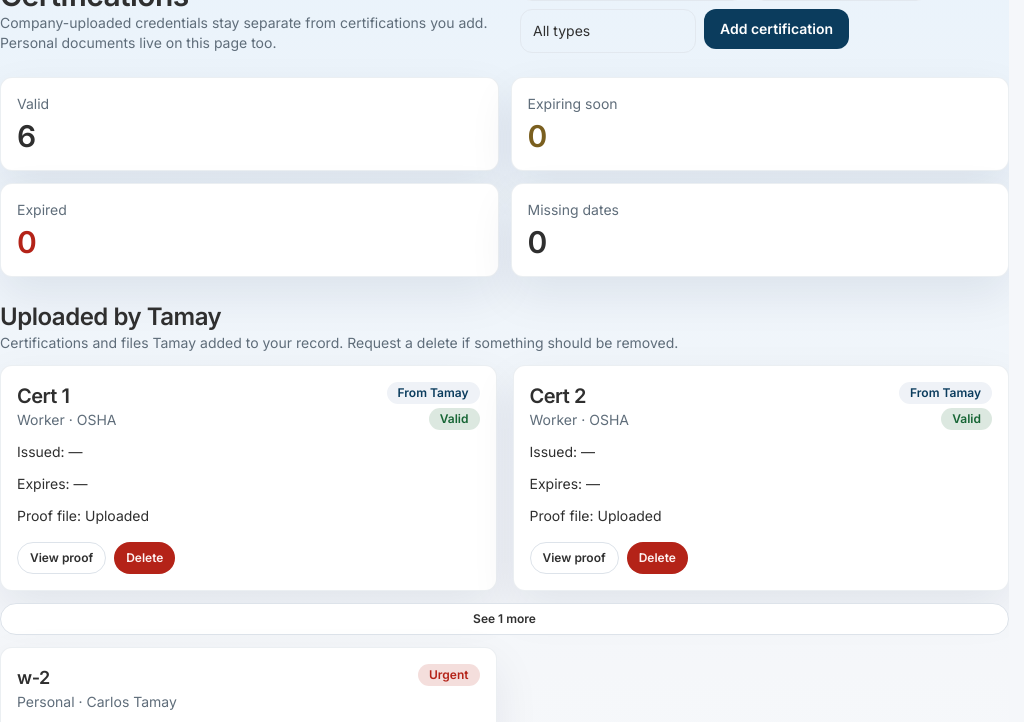
Test: Certifications list › limits the list to one certification type, and All types shows everything
Expected: the heading "w-2" is shown, [17,667,50,688]
Expected: the heading "Cert 1" is shown, [17,384,69,408]
Step 1. Select "CPR" in the dropdown named "Type" → (608, 31), box [520,9,696,53]
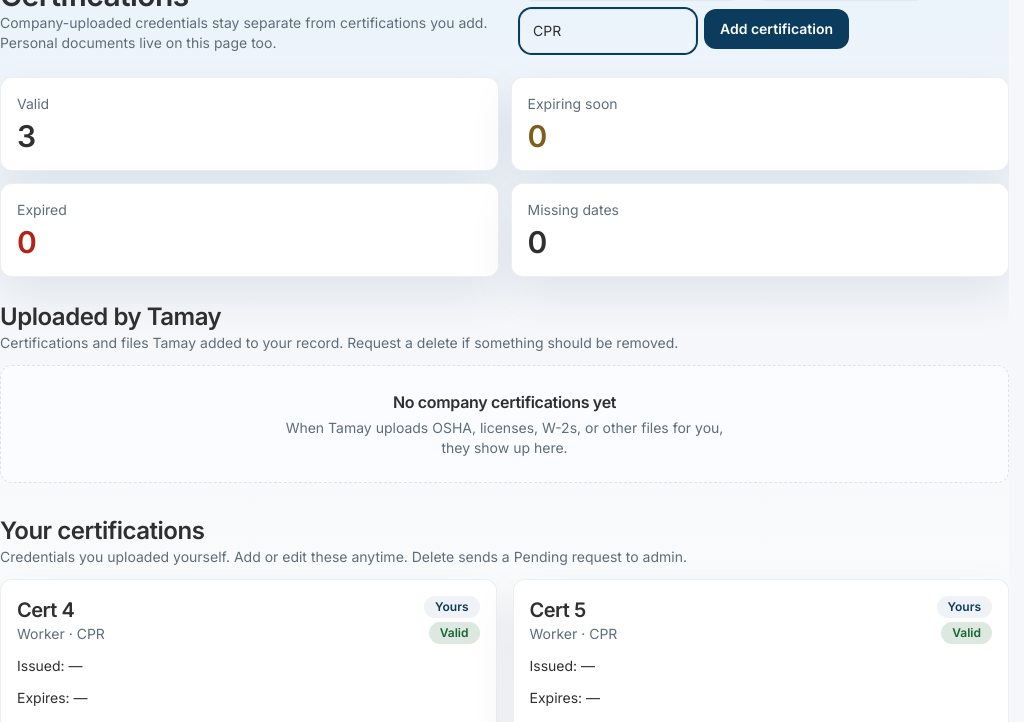
Expected: the heading "Cert 4" is shown, [17,598,74,622]
Now the heading "Cert 1" is gone
Step 2. Select "All types" in the dropdown named "Type" → (608, 31), box [520,9,696,53]
(page scrolled)
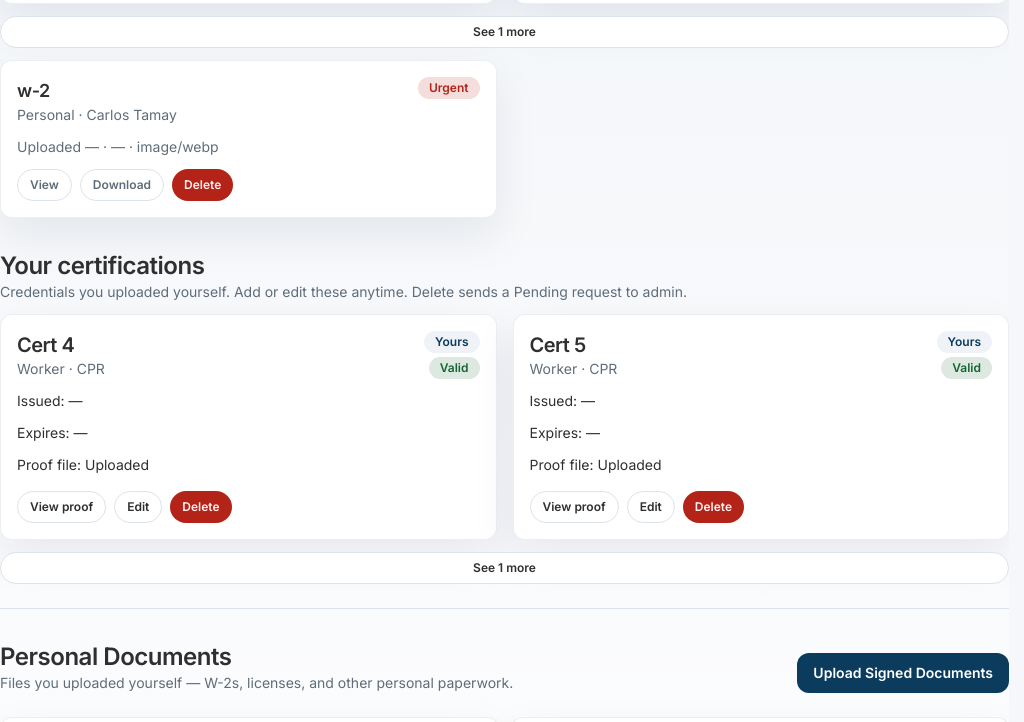
Expected: the heading "Cert 4" is shown, [17,333,74,357]
Now the heading "w-2" is shown, box [17,80,50,101]
